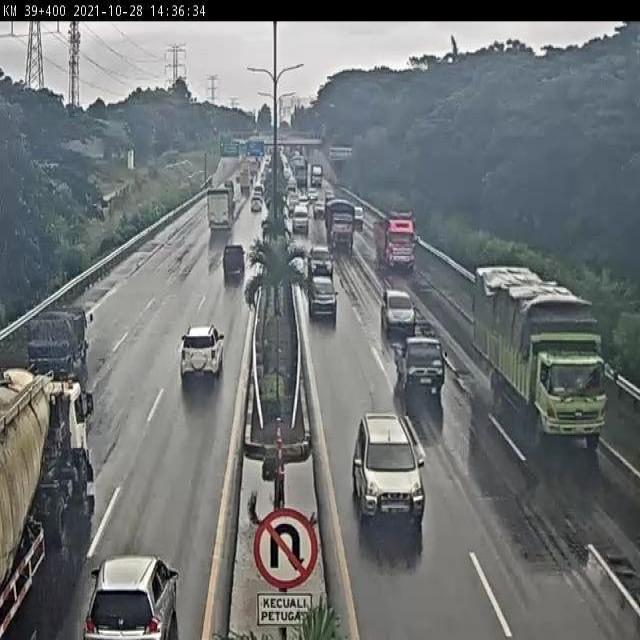big truck: (476, 276, 626, 449), (1, 365, 90, 580), (375, 216, 421, 264), (326, 205, 358, 248), (208, 187, 233, 234)
car: (356, 420, 420, 512), (96, 548, 165, 631), (179, 312, 224, 392), (401, 340, 452, 404), (376, 283, 416, 336), (219, 246, 253, 294), (312, 278, 338, 318), (311, 243, 329, 273), (295, 207, 312, 234), (248, 198, 264, 214)
small truck: (41, 293, 87, 364)
